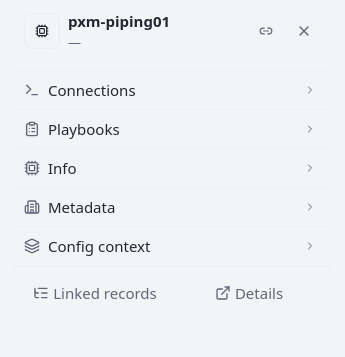
ConnectionInspector › shows eligible playbook buttons in their own expanded section
Click the button "Playbooks".
click(84, 129)  # box x1=12 y1=110 x2=328 y2=148
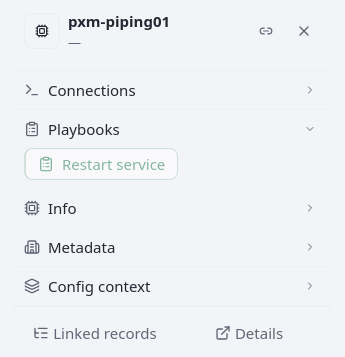
Expected: the button "Connections" is shown, x1=12 y1=71 x2=328 y2=109
Now the text "Restart service" is shown, box x1=62 y1=153 x2=165 y2=175
